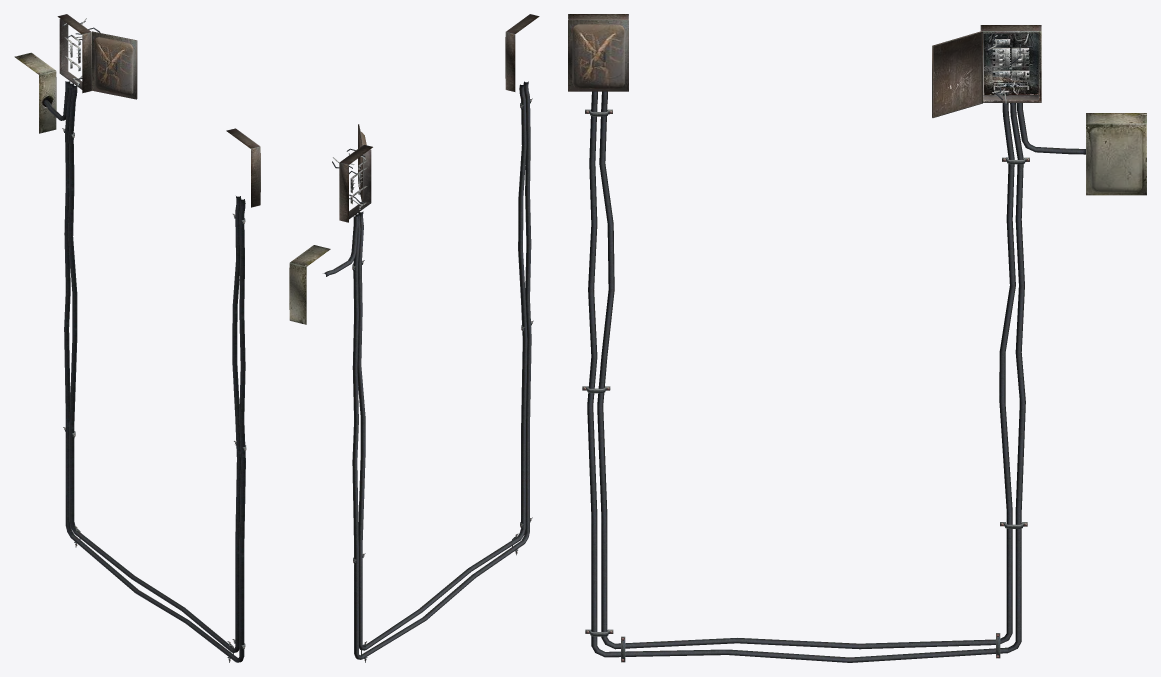
The model's file is wall_wires2.glb.
3 views of the same model, side by side, from view 1: azimuth 30°, elevation 25°; view 2: azimuth 150°, elevation 25°; view 3: azimuth 270°, elevation 25° (orthographic). The views are drawn at different scales.
Visible parts, largest first — view 1: 0_wall_wires1; view 2: 0_wall_wires1; view 3: 0_wall_wires1.
Part boxes in pixels (x1,y1,x2,y2): 0_wall_wires1: (14,14,260,662); 0_wall_wires1: (289,14,539,662); 0_wall_wires1: (568,14,1146,662).
Size of the model in its own units: 0.1684 by 2.39 by 1.93.
Materials: 1 (1 with a texture image).
